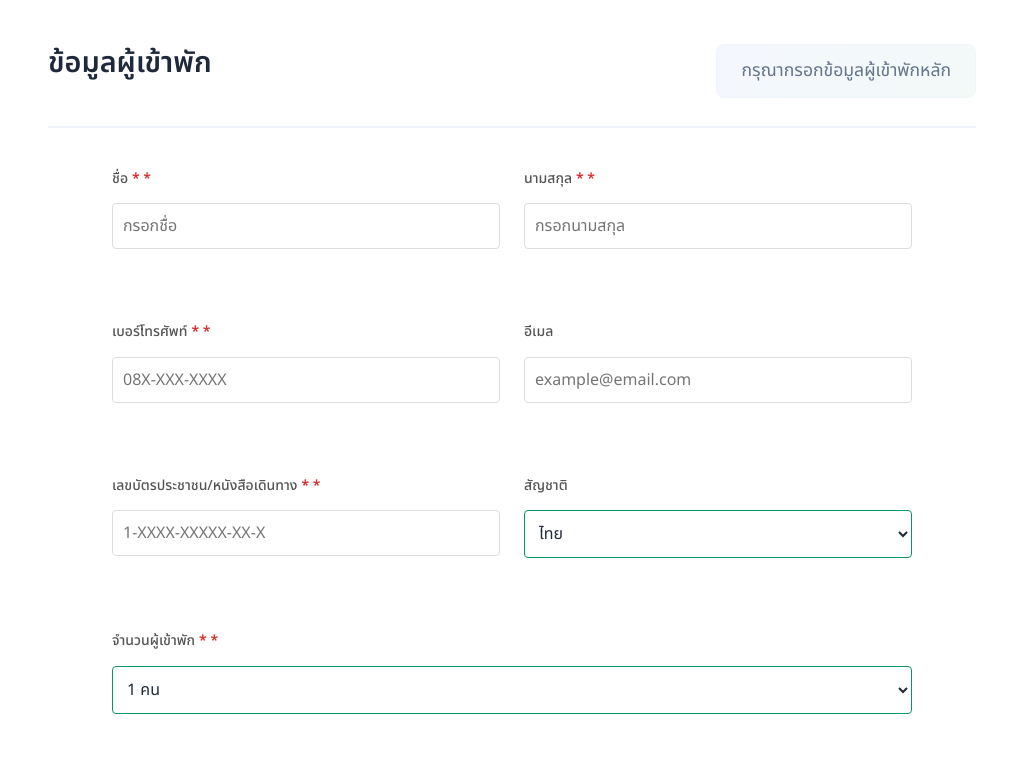
Scenario: GuestForm Component › shows loading state during submission
The width and height of the screenshot is (1024, 768).
// Fill in required fields
Type "John" into the field labelled "ชื่อ *" at (306, 226), box [112, 204, 500, 250]
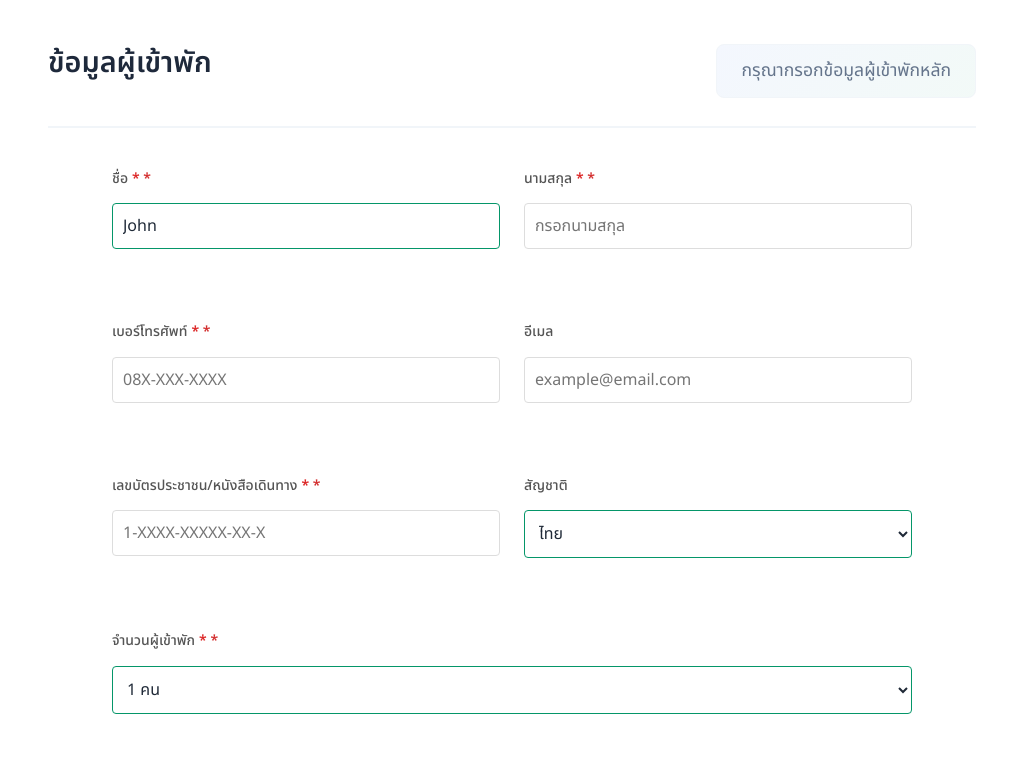
Type "Doe" into the field labelled "นามสกุล *" at (718, 226), box [524, 204, 912, 250]
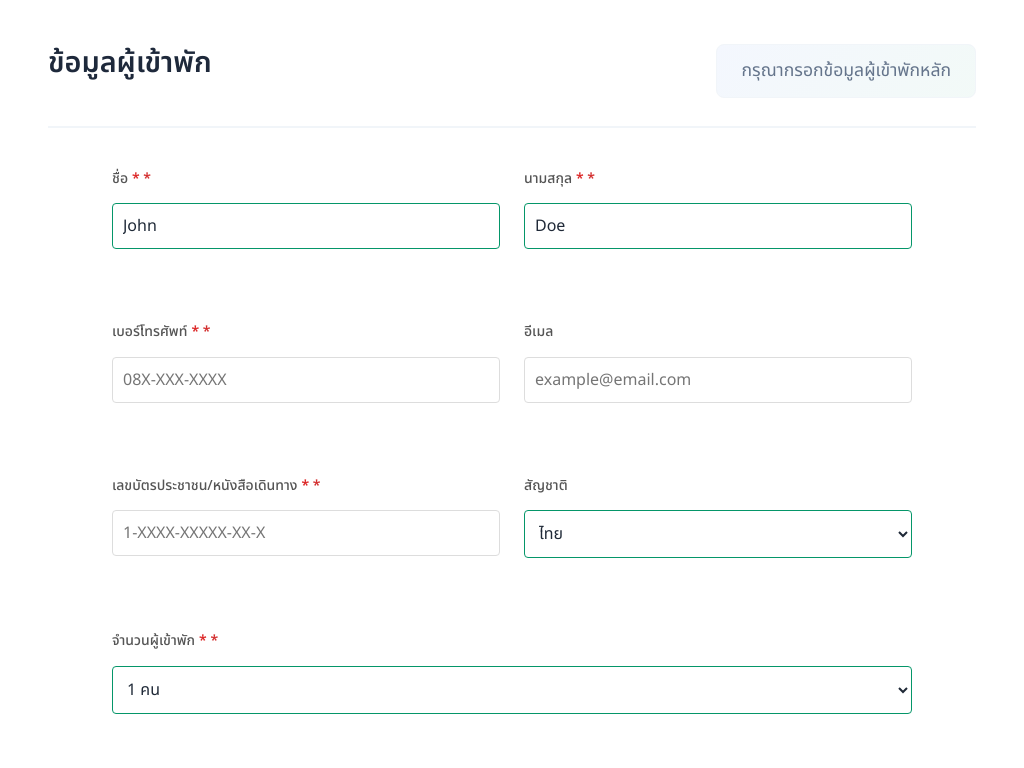
Type "081-234-5678" into the field labelled "เบอร์โทรศัพท์ *" at (306, 380), box [112, 357, 500, 403]
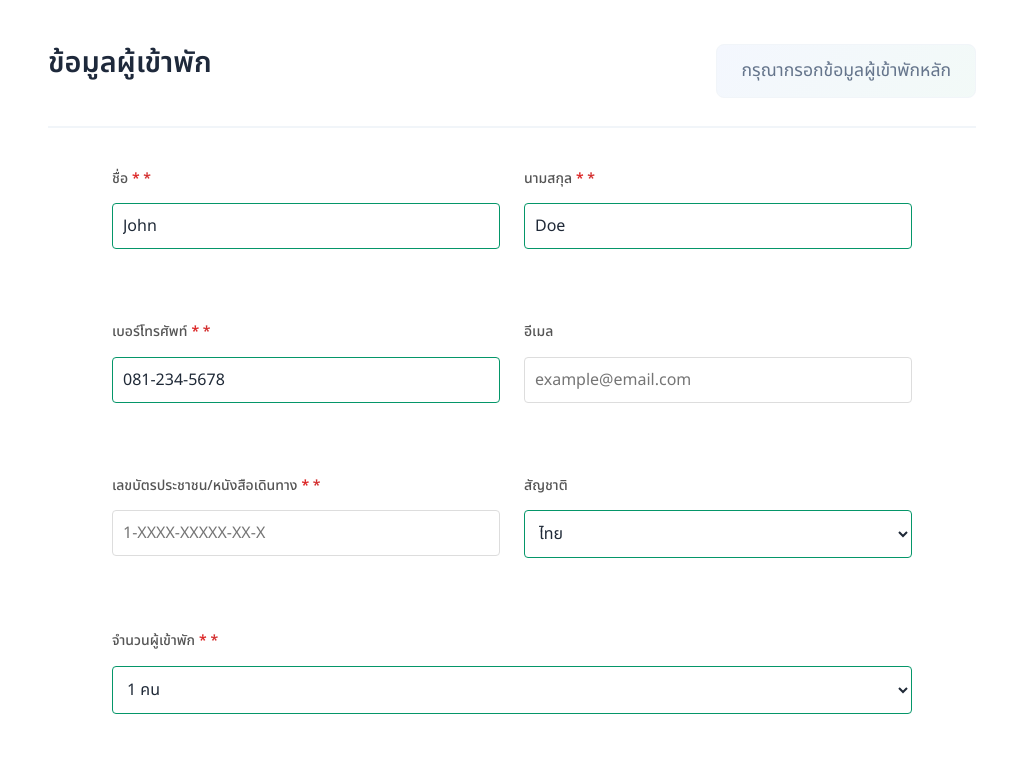
Type "AB123456" into the field labelled "เลขบัตรประชาชน/หนังสือเดินทาง *" at (306, 533), box [112, 510, 500, 556]
(page scrolled)
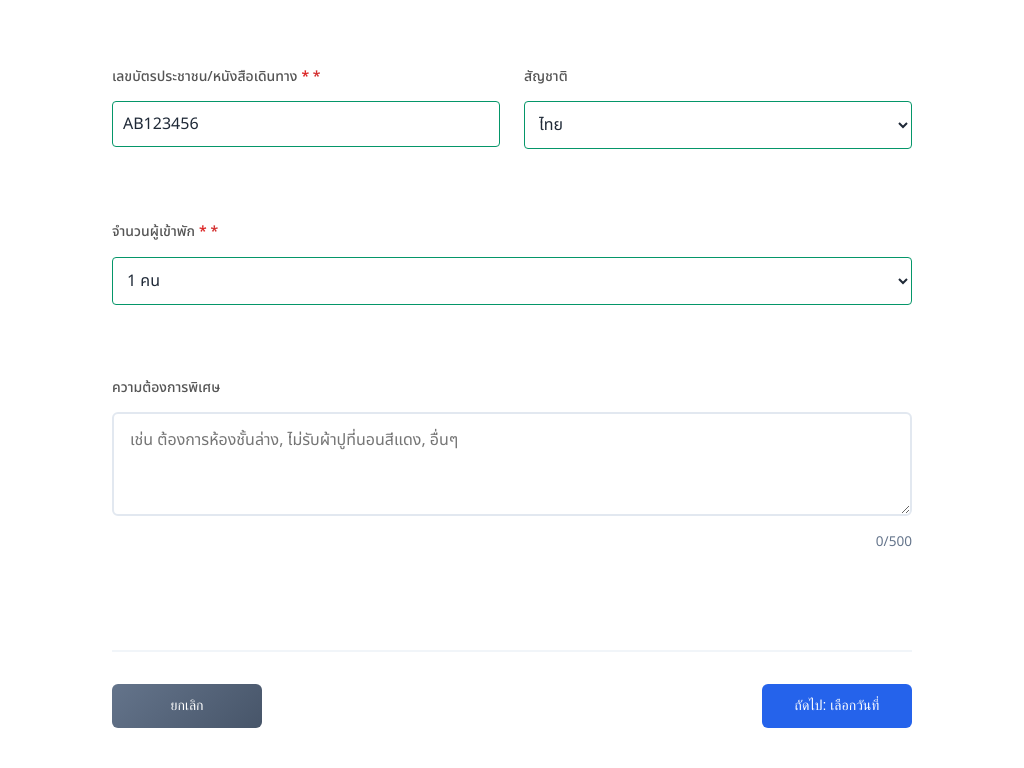
Click the button "ถัดไป: เลือกวันที่" at (837, 706), box [762, 684, 912, 728]
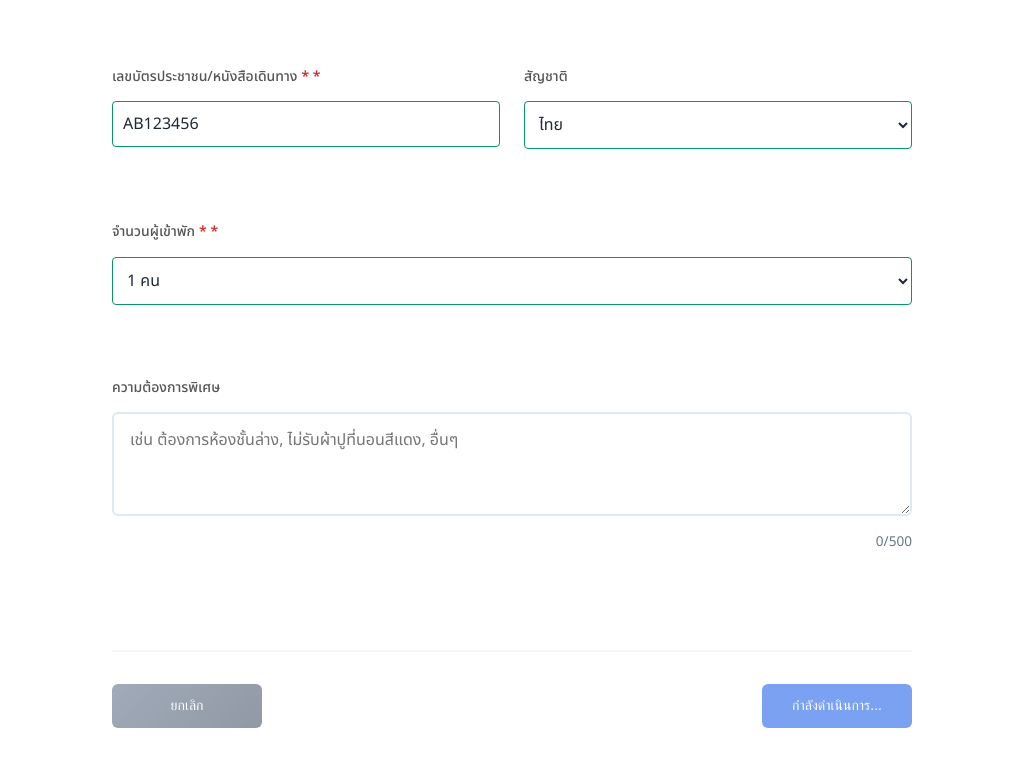
Result: the button "กำลังดำเนินการ..." is disabled at [762, 684, 912, 728]
Result: the button "ยกเลิก" is disabled at [112, 684, 262, 728]
